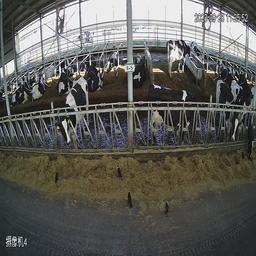cow: (147, 80, 199, 148), (57, 76, 91, 156), (213, 74, 241, 156), (233, 74, 255, 157), (161, 28, 191, 78), (83, 63, 109, 92), (128, 47, 145, 90), (32, 69, 50, 104), (21, 73, 37, 106), (191, 32, 206, 65), (105, 46, 119, 74)
